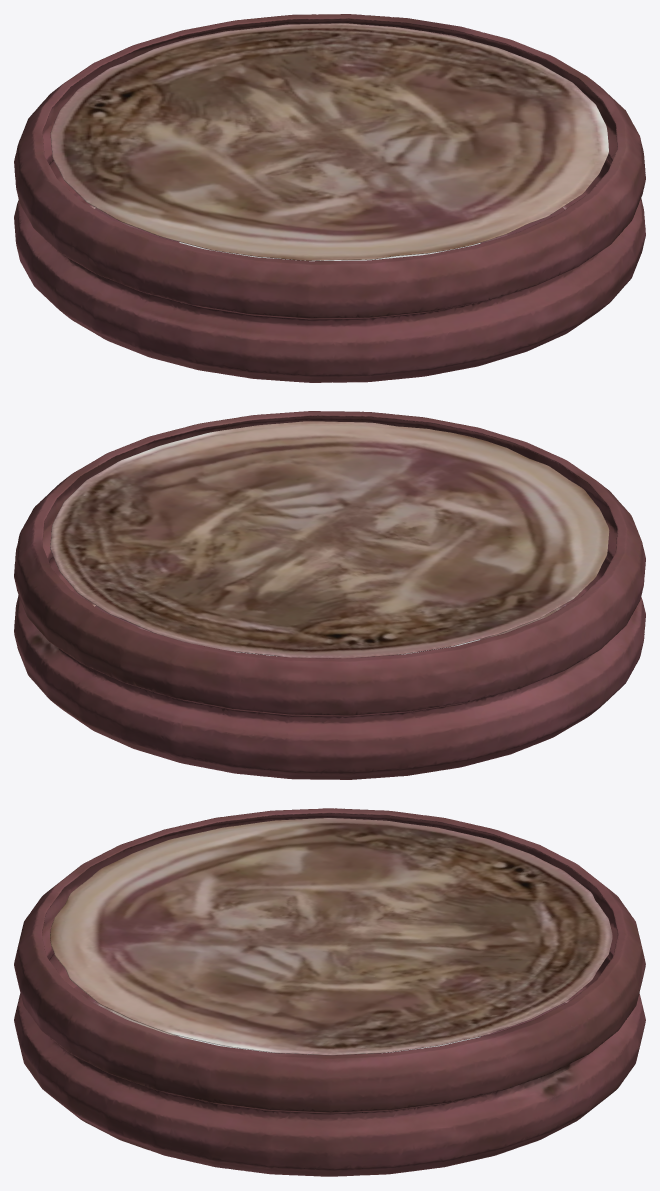
Rendered from Miscellaneous [sI1Bs2].glb.
The picture shows the model from 3 angles, top to bottom: view 1: azimuth 30°, elevation 25°; view 2: azimuth 150°, elevation 25°; view 3: azimuth 270°, elevation 25°; orthographic projection.
Visible parts, largest first — view 1: world; view 2: world; view 3: world.
Boxes of the visible parts, left/top/right/bottom form: world: left=14, top=14, right=645, bottom=382; world: left=14, top=411, right=645, bottom=779; world: left=14, top=808, right=645, bottom=1176.
Bounding box in the file's own units: 1 × 0.2067 × 1.
1 material, 1 textured.
